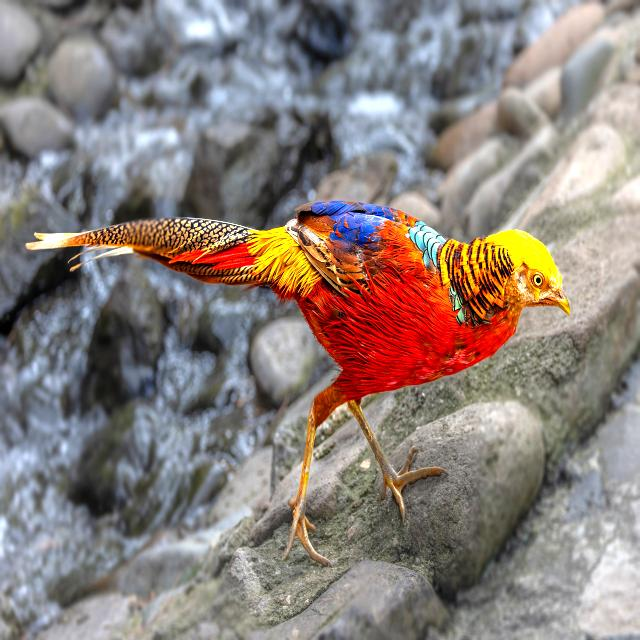Chrysolophus pictus feather: (28, 218, 258, 266)
